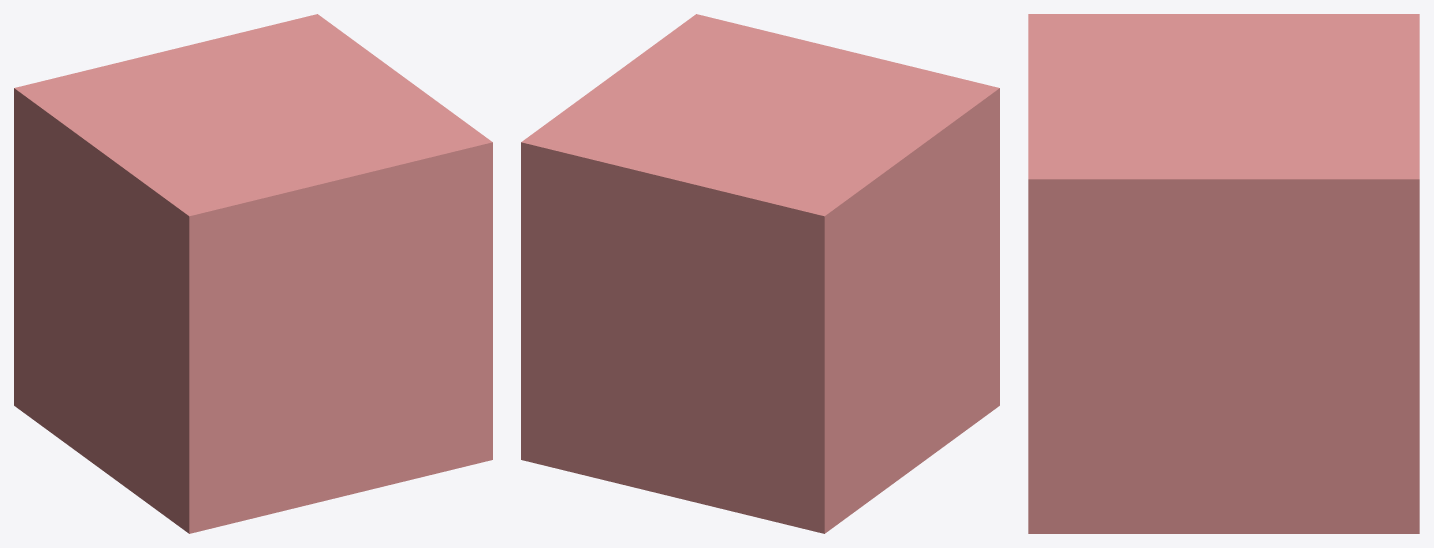
File: error.glb
3 renders of one model, left to right at view 1: azimuth 30°, elevation 25°; view 2: azimuth 150°, elevation 25°; view 3: azimuth 270°, elevation 25°, orthographic. The views are drawn at different scales.
Visible parts, largest first — view 1: Body3; view 2: Body3; view 3: Body3.
Part boxes in pixels (<box>): Body3: <box>14,14,492,533</box>; Body3: <box>521,14,999,533</box>; Body3: <box>1028,14,1419,533</box>.
Size of the model in its own units: 0.1 by 0.1 by 0.1.
